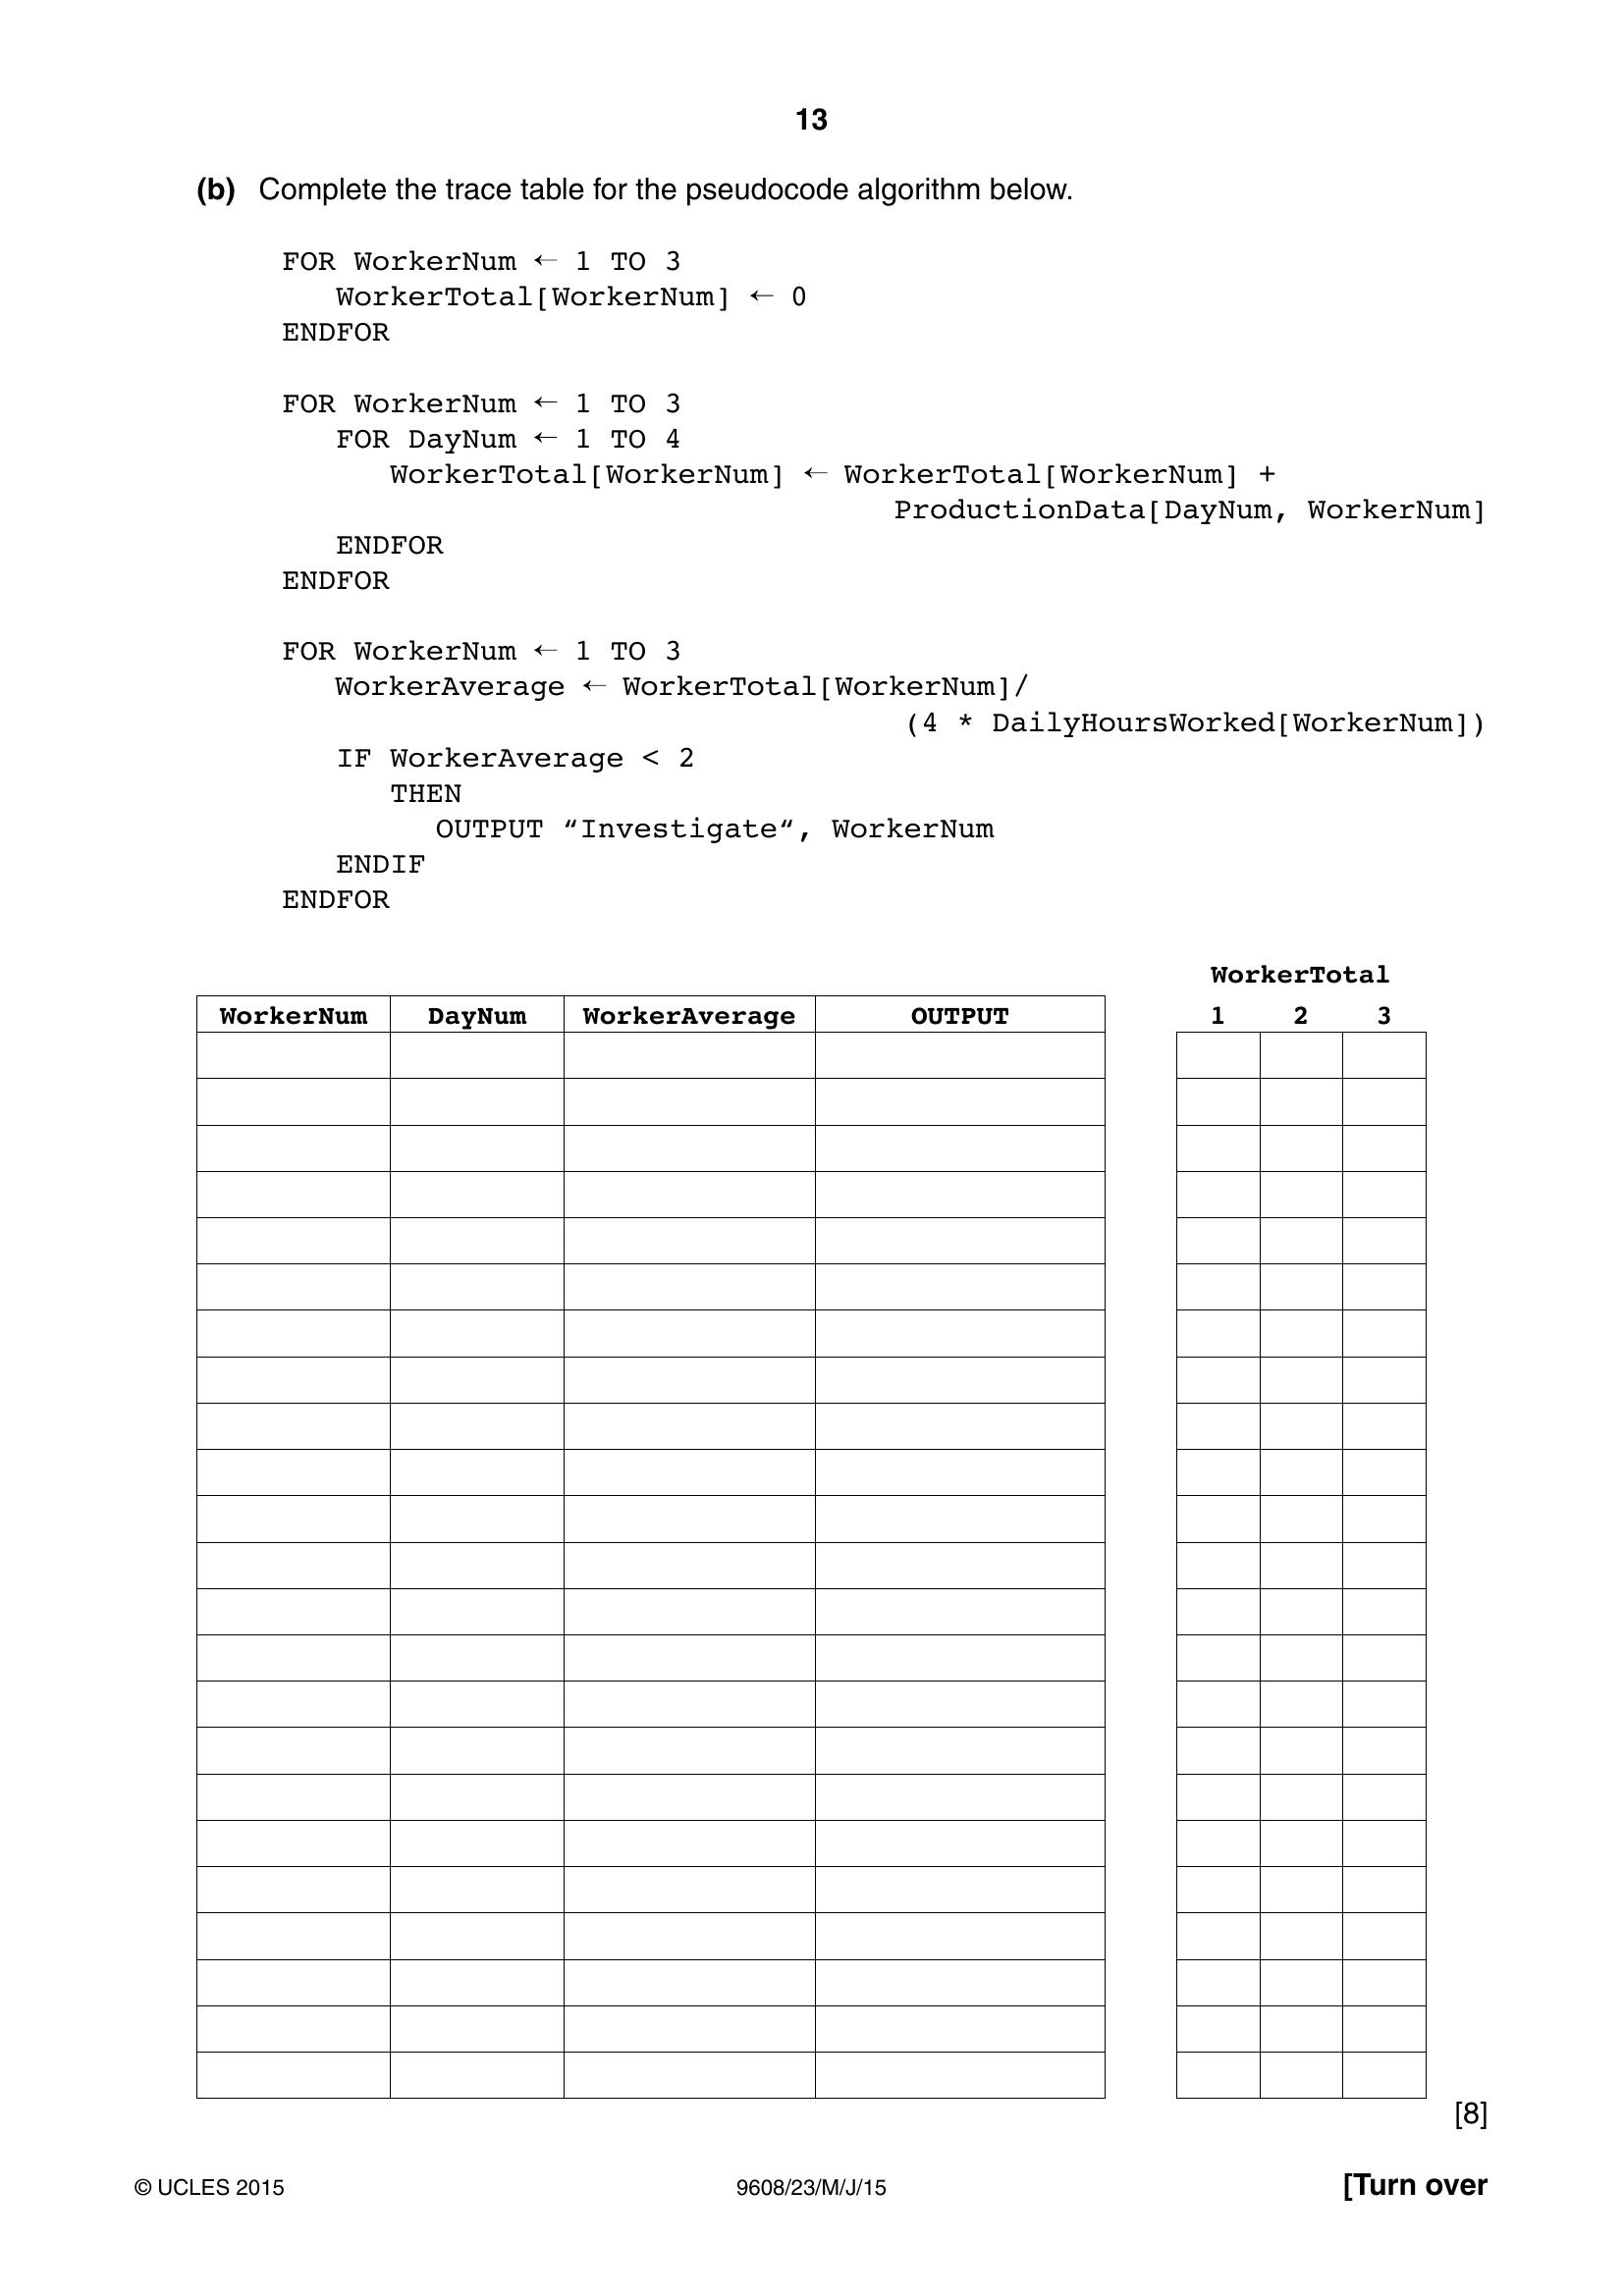continued question: (5, 151, 1624, 2140)
